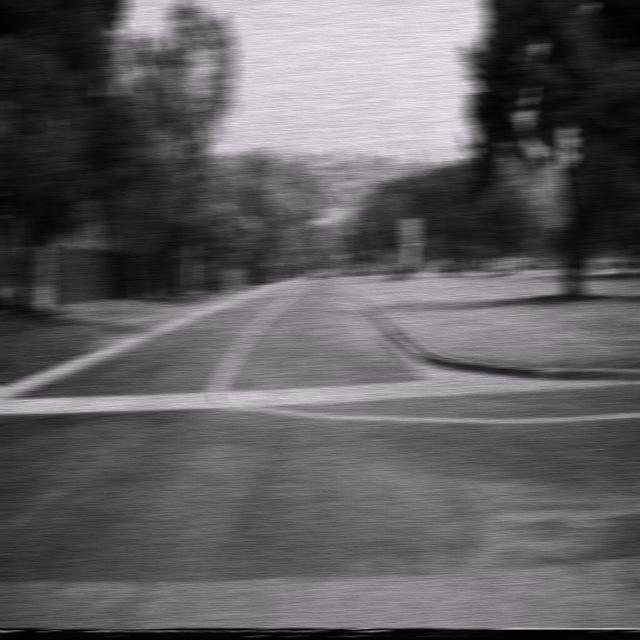speedLimit30: (401, 215, 420, 248)
